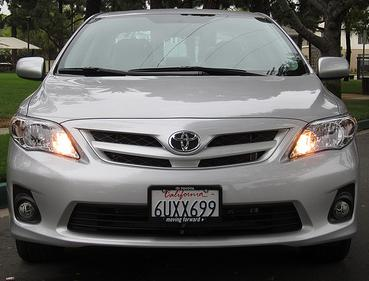front_view: (18, 89, 358, 253)
headlight: (282, 114, 362, 166)
